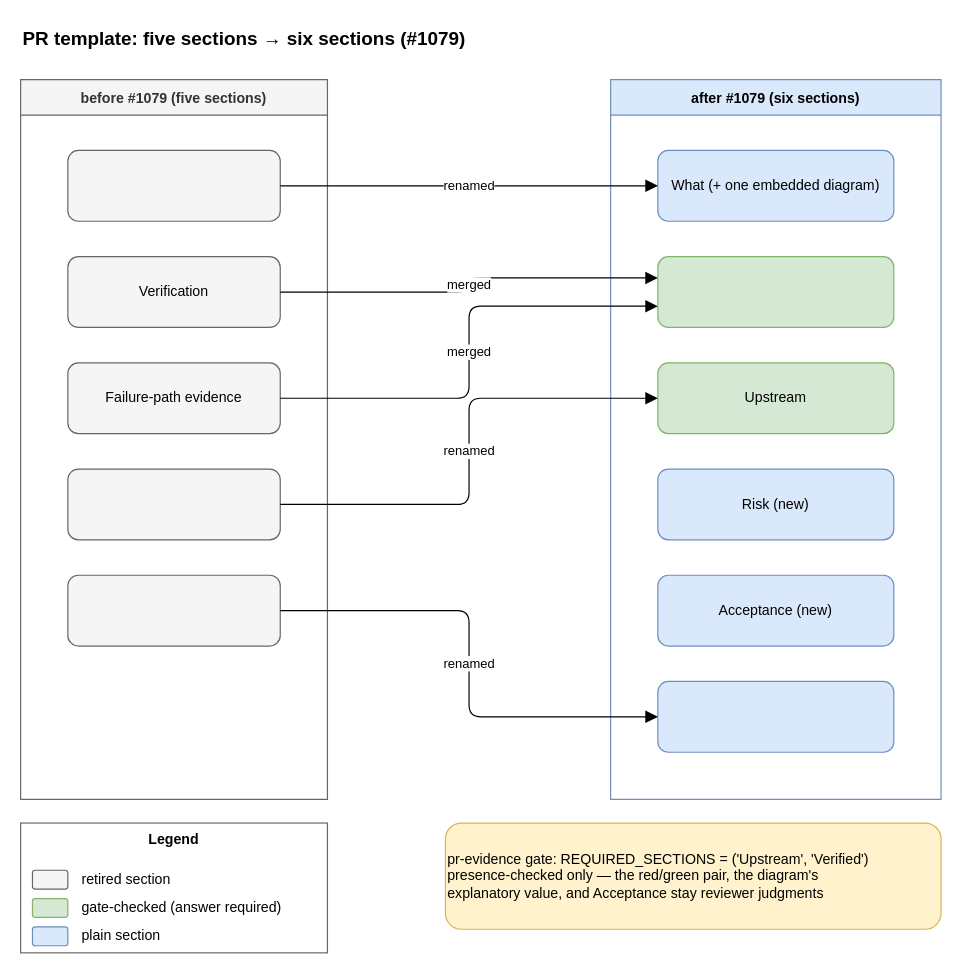
Image size: 962x973. Some labels were removed from this diagram. Each missing label, with the centre of its shape:
"Issues" belongs at (x=775, y=716).
"Related issues" belongs at (x=173, y=610).
"Summary of changes" belongs at (x=173, y=185).
"Upstream equivalent" belongs at (x=173, y=504).
"Verified (red + green output)" belongs at (x=775, y=291).
